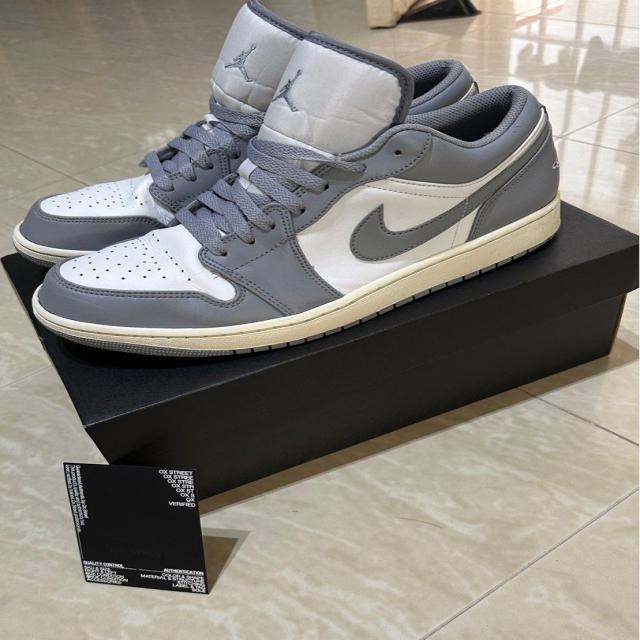nike original jordan 1: (19, 34, 564, 366), (12, 0, 487, 264)
